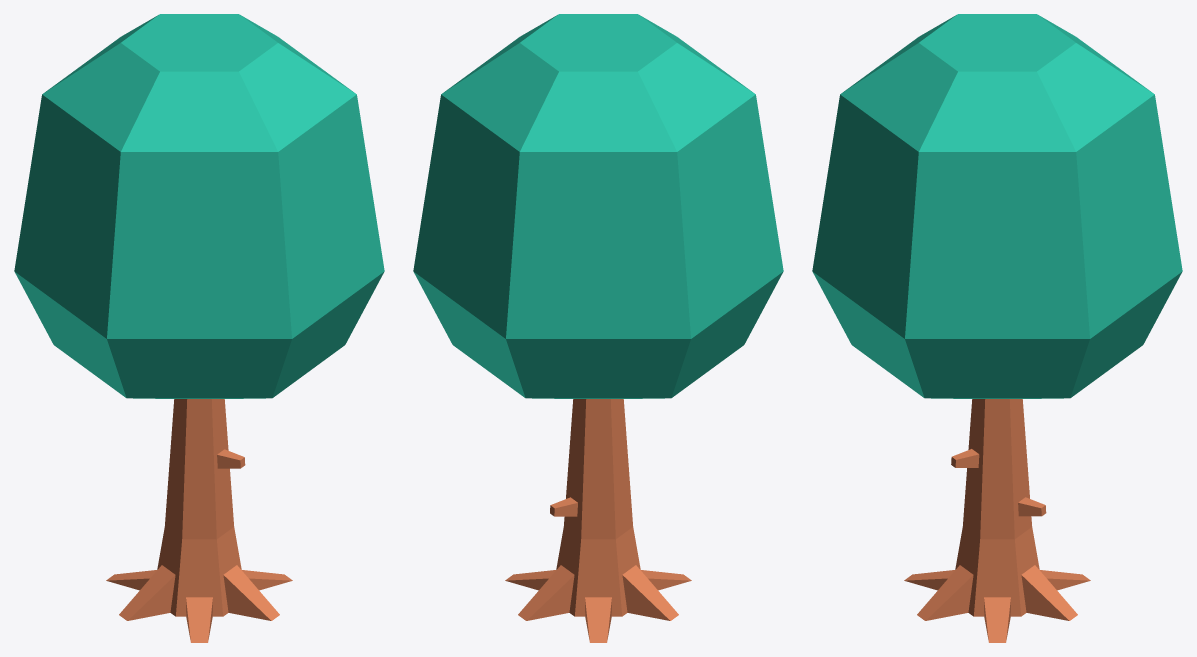
File: tree_oak.obj
The picture shows the model from 3 angles, left to right: view 1: azimuth 30°, elevation 25°; view 2: azimuth 150°, elevation 25°; view 3: azimuth 270°, elevation 25°; orthographic projection.
Visible parts, largest first — view 1: tree_oak; view 2: tree_oak; view 3: tree_oak.
Part boxes in pixels (x1,y1,x2,y2): tree_oak: (14, 14, 384, 642); tree_oak: (413, 14, 783, 642); tree_oak: (812, 14, 1182, 642).
Bounding box in the file's own units: 0.6406 × 1.23 × 0.7396.
